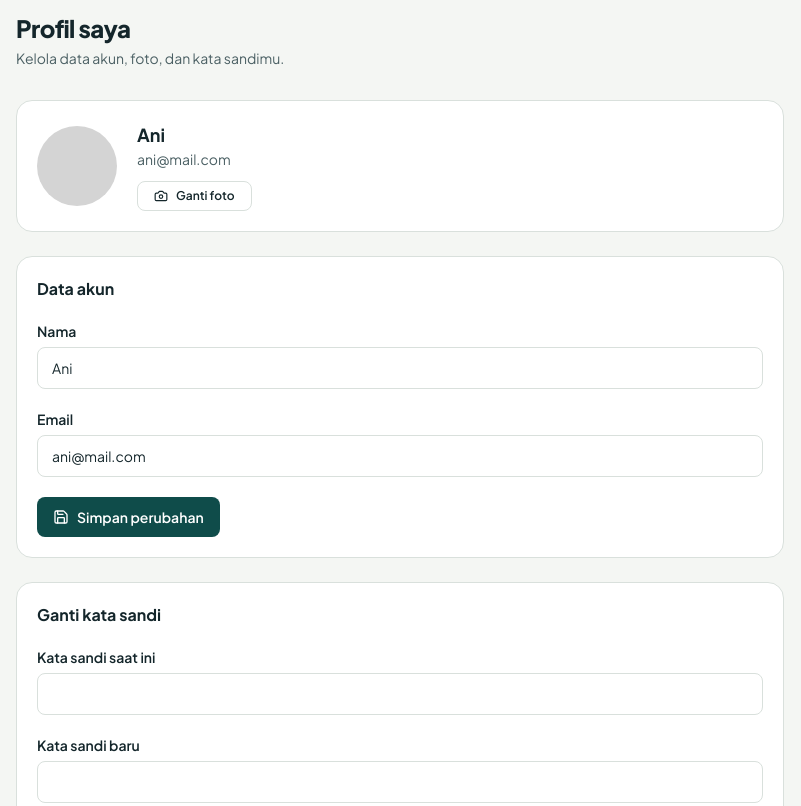
Test: ProfilePage › data akun › validasi nama dan email
Clear the field labelled "Nama" at (400, 368), box [37,347,763,389]
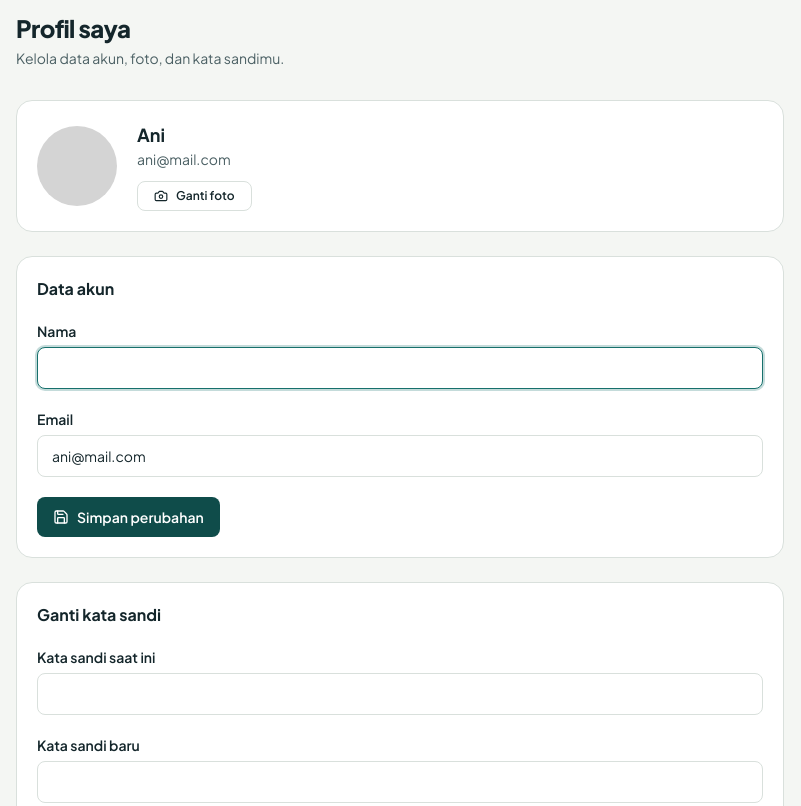
Clear the field labelled "Email" at (400, 456), box [37,435,763,477]
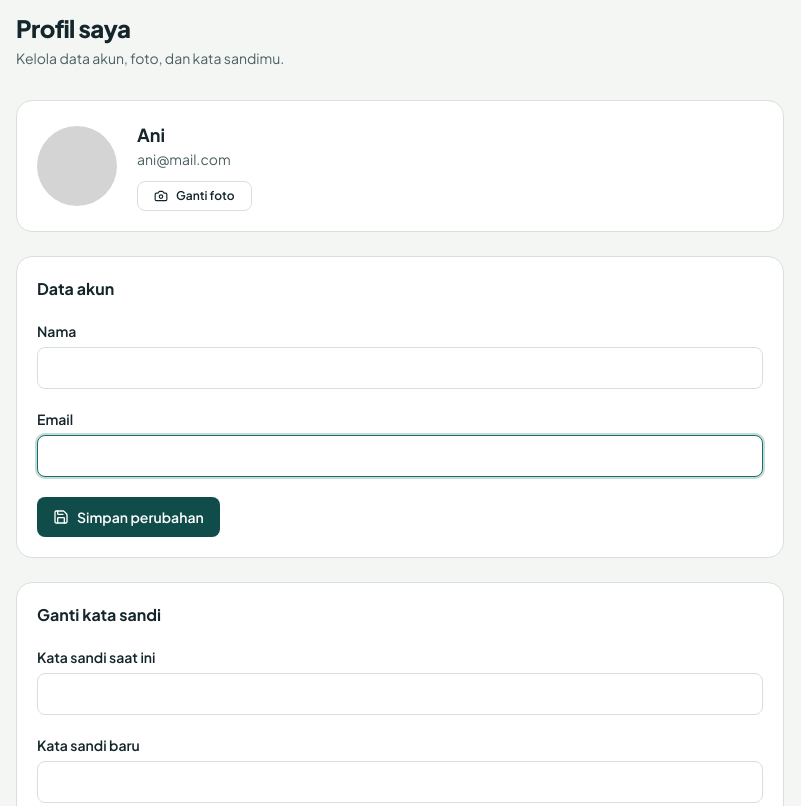
Click the button "Simpan perubahan" at (128, 517), box [37,497,220,537]
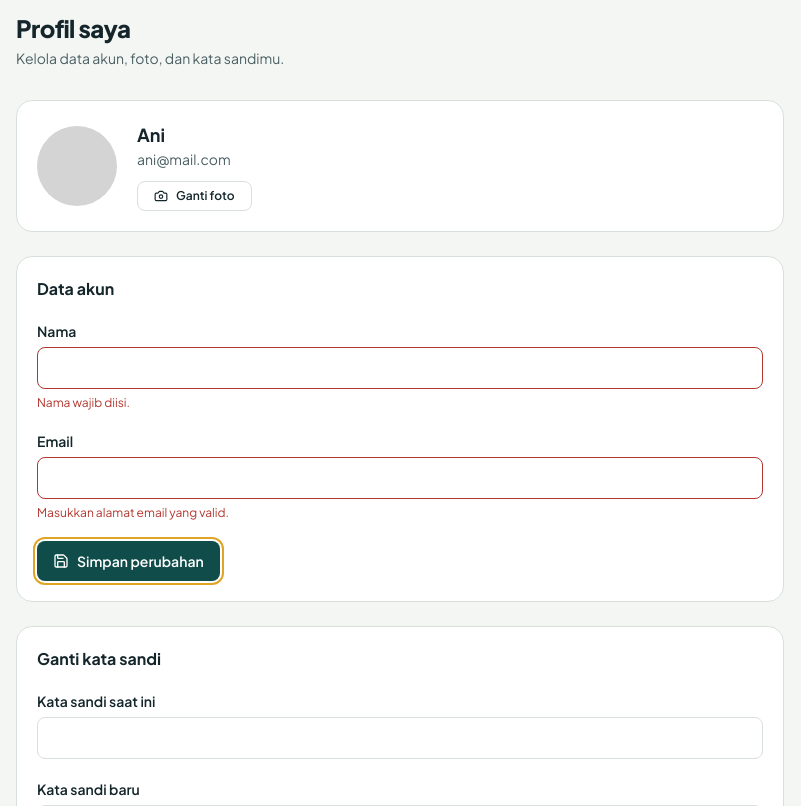
expect the text "Nama wajib diisi." is shown: met, box [37,395,130,410]
expect the text "Masukkan alamat email yang valid." is shown: met, box [37,505,229,520]
